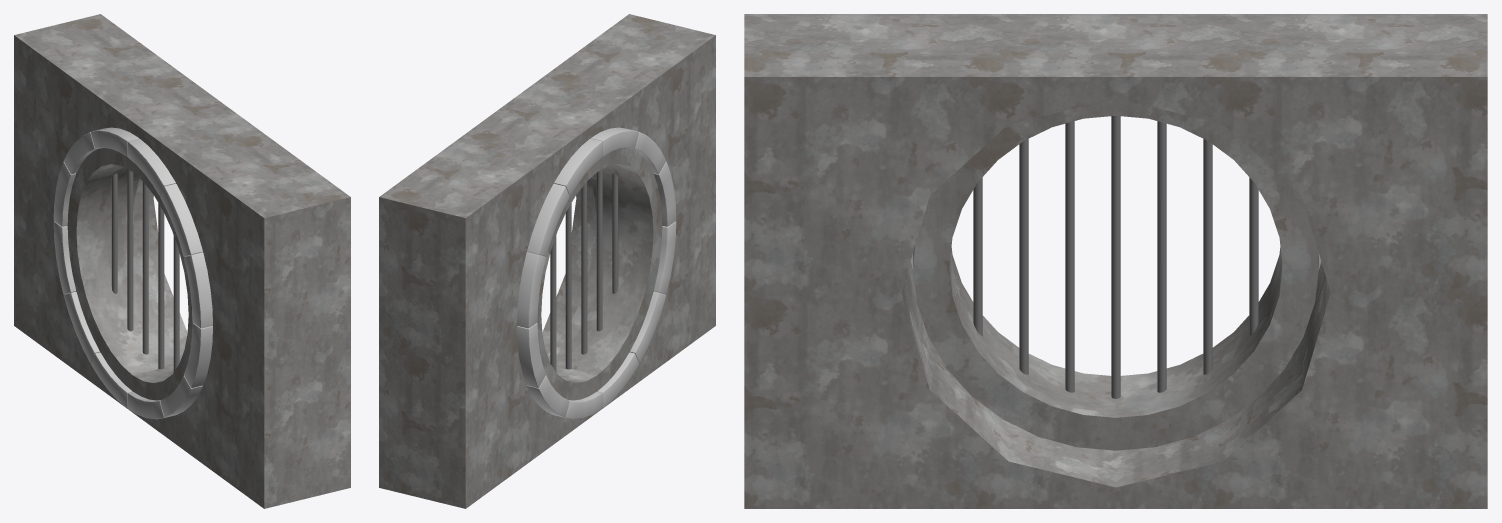
File: AlleywayWallA.fbx
3 views of the same model, side by side, from view 1: azimuth 30°, elevation 25°; view 2: azimuth 150°, elevation 25°; view 3: azimuth 270°, elevation 25° (orthographic). The views are drawn at different scales.
Parts seen in each view (by area): view 1: Box074, Cylinder009, Group002, Cylinder010; view 2: Box074, Cylinder009, Group002, Cylinder010; view 3: Box074, Cylinder009, Cylinder010.
Part boxes in pixels (x1,y1,x2,y2): Box074: [14, 14, 350, 508]; Cylinder009: [67, 148, 192, 400]; Group002: [53, 127, 212, 419]; Cylinder010: [111, 169, 179, 371]; Box074: [379, 14, 715, 508]; Cylinder009: [537, 148, 662, 400]; Group002: [517, 127, 676, 419]; Cylinder010: [550, 169, 618, 371]; Box074: [744, 14, 1487, 508]; Cylinder009: [913, 98, 1318, 450]; Cylinder010: [973, 115, 1258, 398].
Bounding box in the file's own units: 570 × 1603 × 2500.
